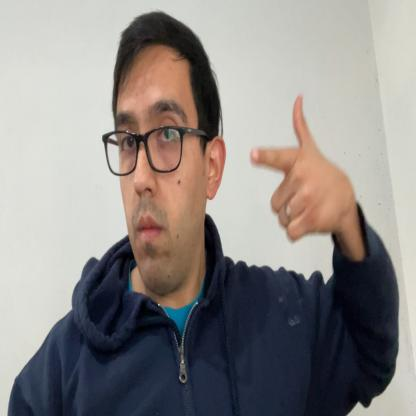G: (249, 92, 338, 242)
